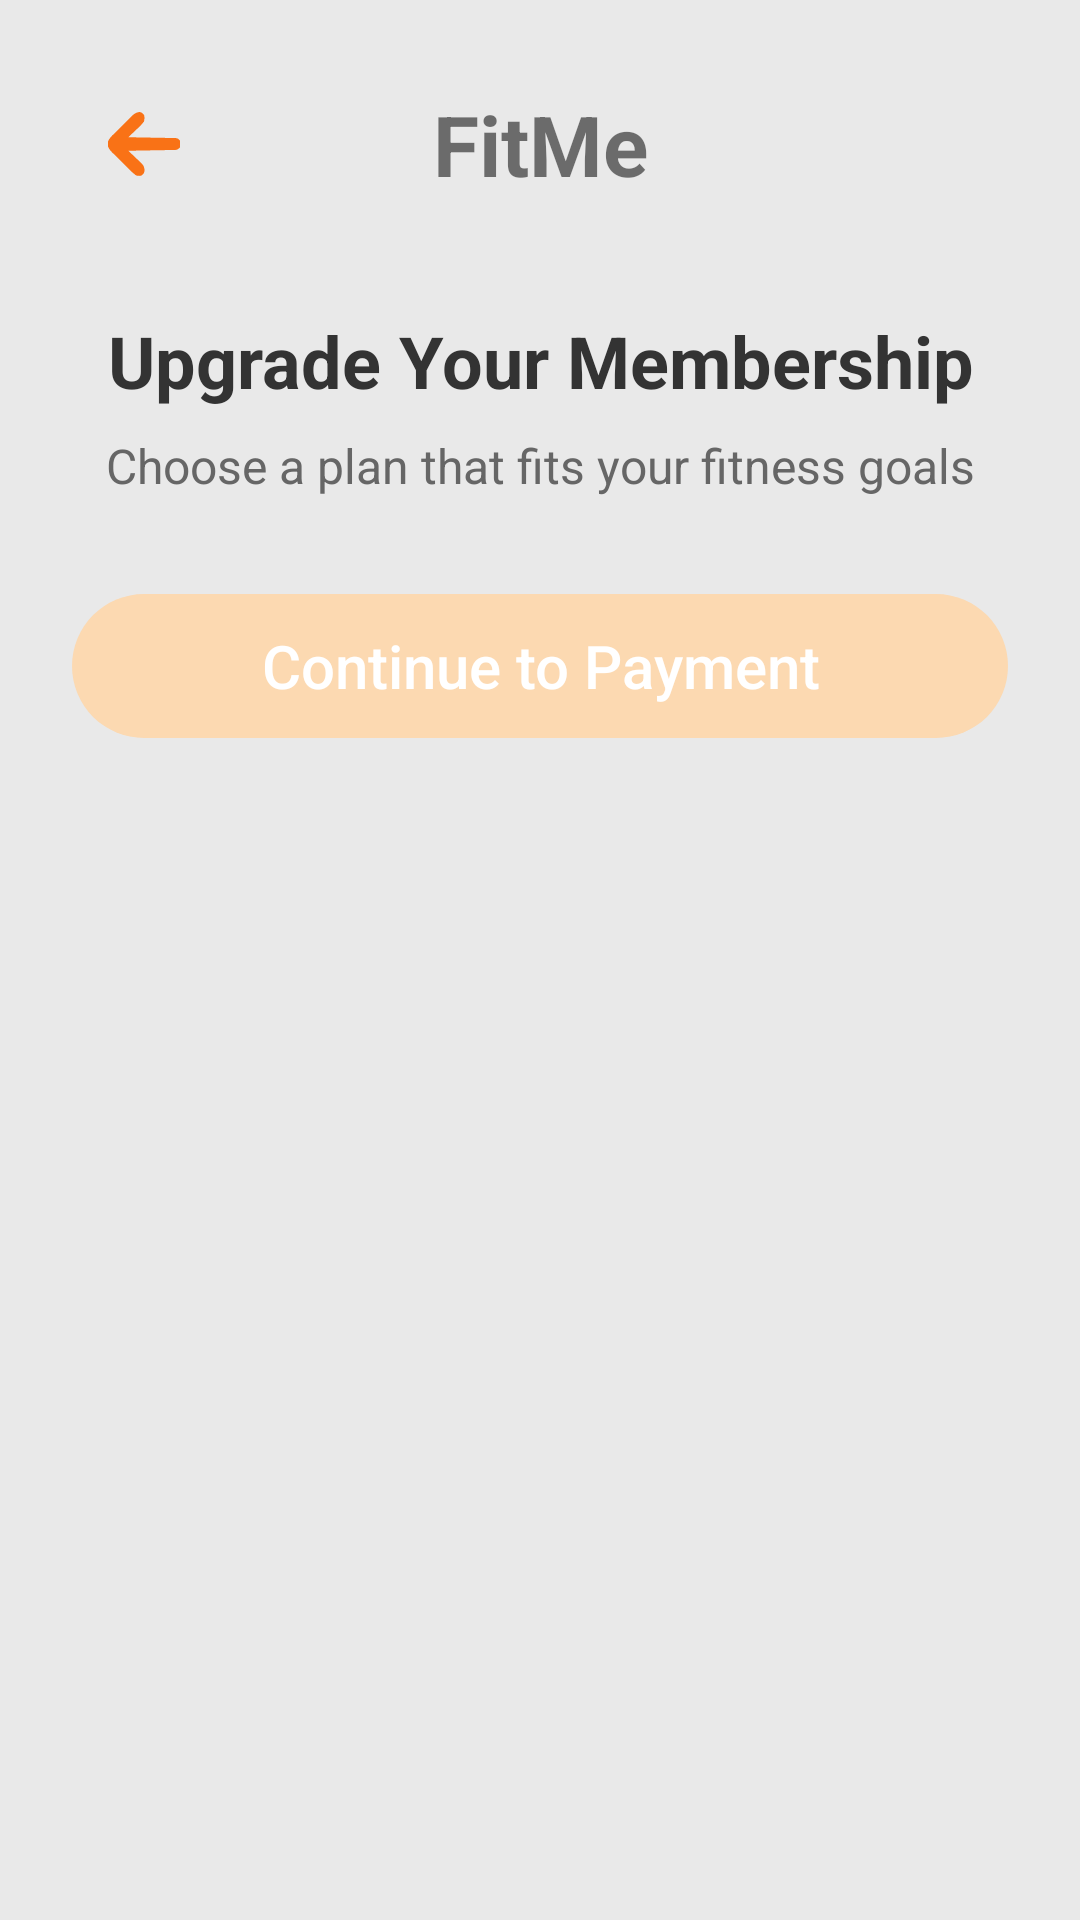

Point at icon controls on the screen. Image size 1080*1920, points as [x,y].
Back: [144,144]
